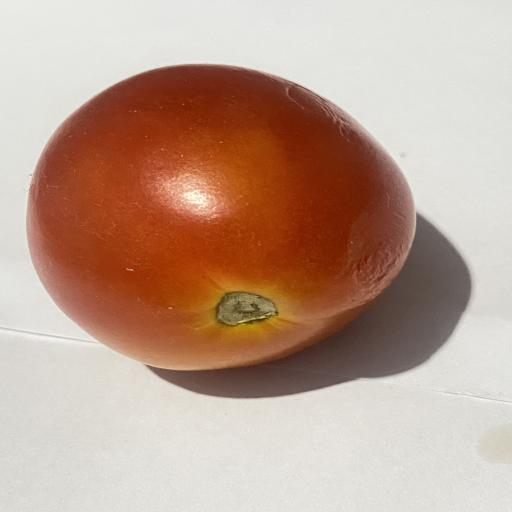overipe: (26, 64, 416, 370)
